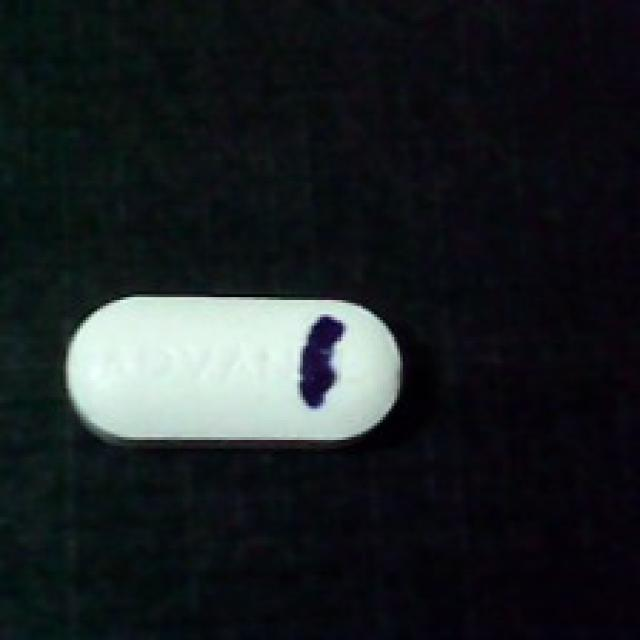defected: (60, 294, 414, 454)
